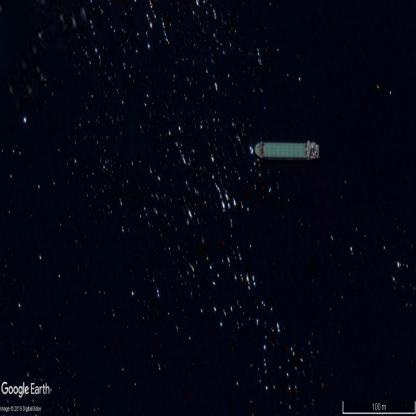ship: (255, 141, 319, 159)
